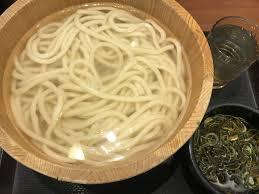kamaage: (1, 1, 214, 189)
